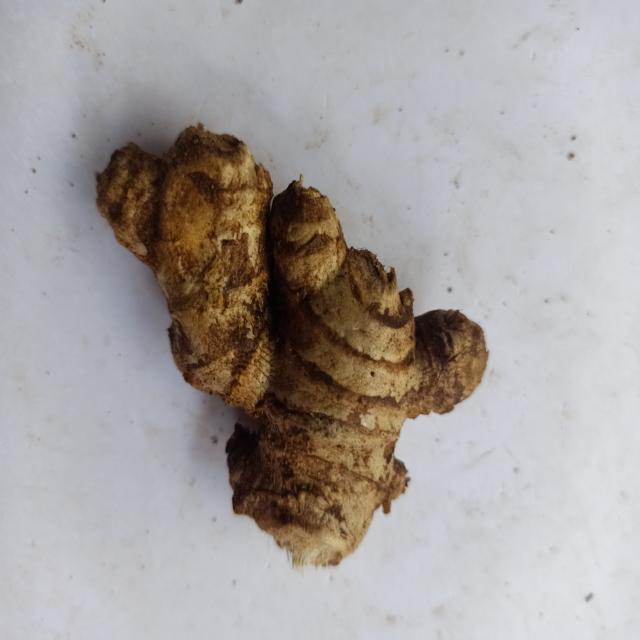Ginger: (96, 125, 488, 566)
